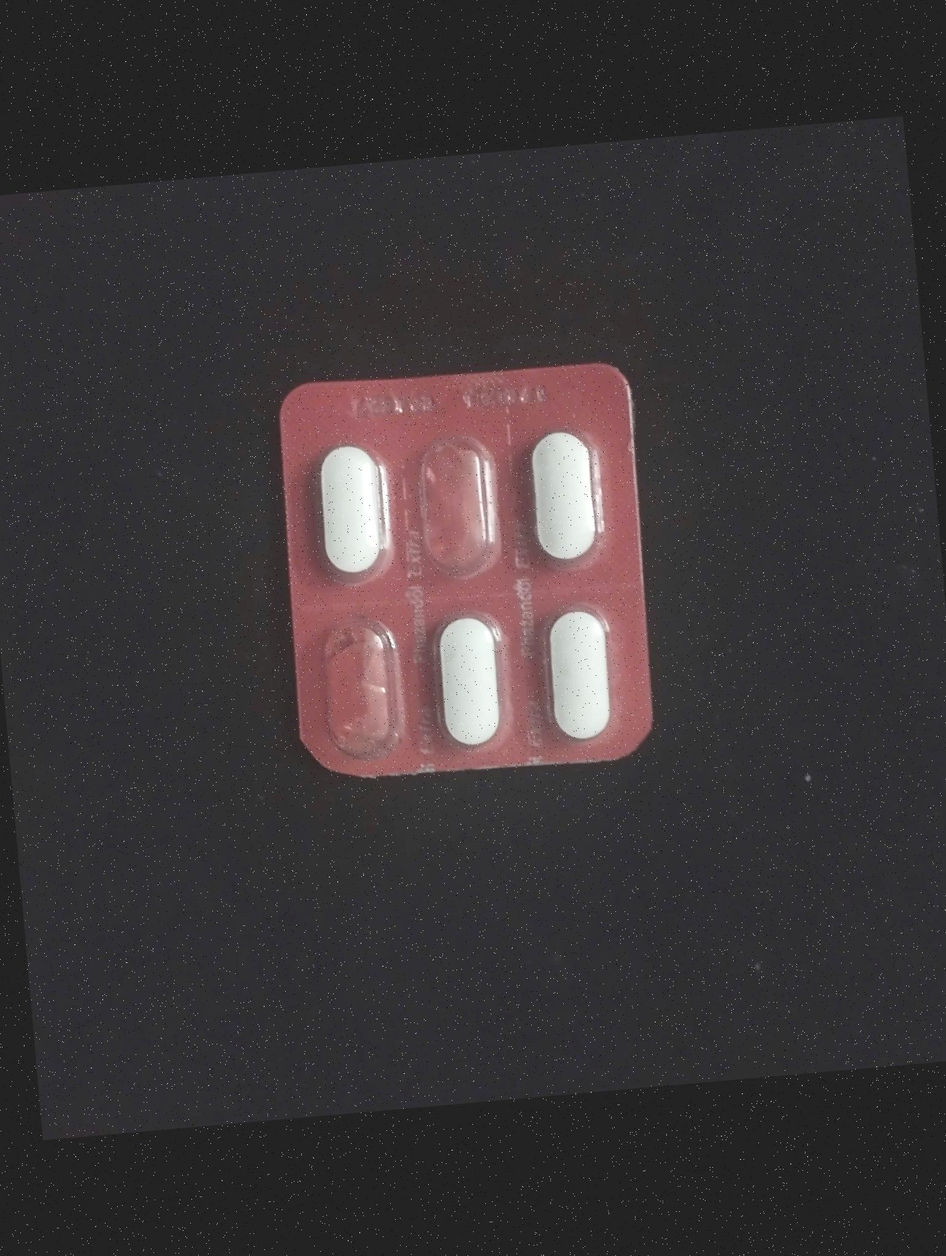Empty: (309, 611, 408, 767), (415, 428, 502, 573)
Full: (537, 603, 631, 751), (423, 604, 511, 761), (520, 431, 610, 572), (307, 428, 389, 577)
